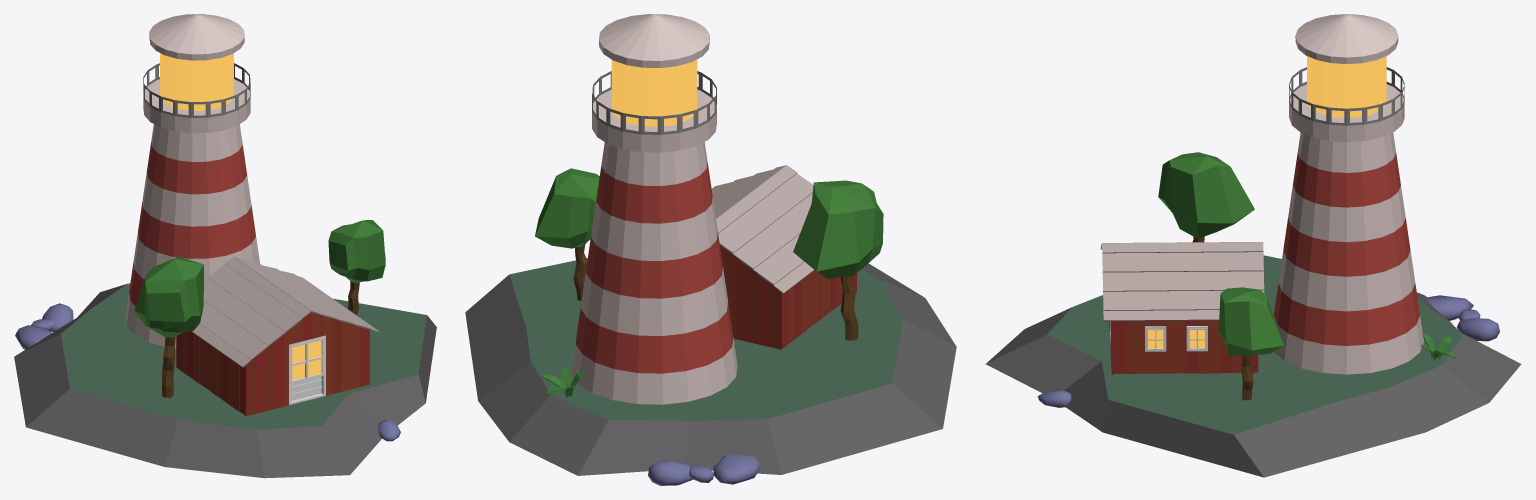
File: island3.glb
3 renders of one model, left to right at view 1: azimuth 30°, elevation 25°; view 2: azimuth 150°, elevation 25°; view 3: azimuth 270°, elevation 25°, orthographic. The views are drawn at different scales.
Parts seen in each view (by area): view 1: isl, lighthouse, House.001, Tree2.010, Tree2.011, Rock4.006, Rock4.005; view 2: isl, lighthouse, House.001, Tree2.010, Tree2.011, Rock4.006, Rock4.005, Plant.001; view 3: isl, lighthouse, House.001, Tree2.010, Tree2.011, Rock4.005, Rock4.006.
Part boxes in pixels (x1,y1,x2,y2): isl: (14,283,436,478); lighthouse: (125,14,259,348); House.001: (176,256,379,416); Tree2.010: (134,256,203,397); Tree2.011: (328,220,385,315); Rock4.006: (15,325,51,349); Rock4.005: (42,303,73,332); isl: (465,258,956,475); lighthouse: (571,14,737,404); House.001: (711,165,856,349); Tree2.010: (793,180,883,340); Tree2.011: (535,168,599,301); Rock4.006: (713,454,760,484); Rock4.005: (648,460,693,485); Plant.001: (542,367,585,396); isl: (985,255,1521,477); lighthouse: (1273,14,1423,374); House.001: (1100,242,1264,374); Tree2.010: (1158,152,1254,242); Tree2.011: (1218,287,1283,400); Rock4.005: (1456,318,1499,341); Rock4.006: (1424,295,1473,320).
Size of the model in its own units: 14.72 by 11.67 by 15.5.
